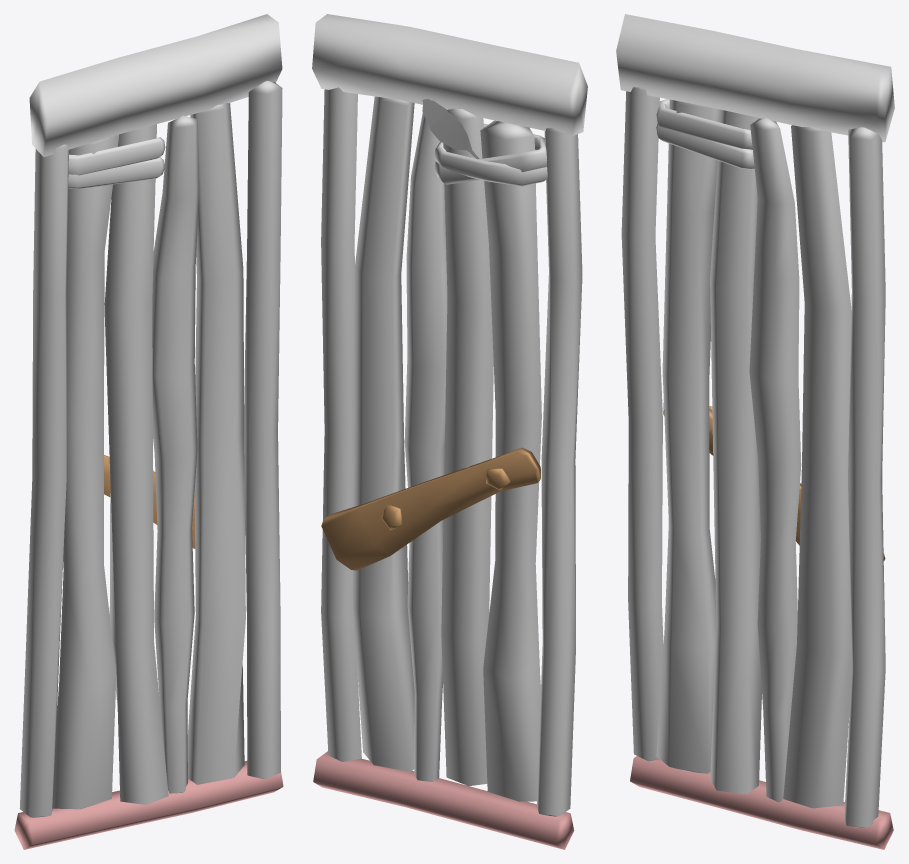
Rendered from PBW_W1_ArchwaySupportLarge.glb.
3 renders of one model, left to right at view 1: azimuth 30°, elevation 25°; view 2: azimuth 150°, elevation 25°; view 3: azimuth 330°, elevation 25°, orthographic.
Visible parts, largest first — view 1: PBW_W1_ArchwaySupportLarge; view 2: PBW_W1_ArchwaySupportLarge; view 3: PBW_W1_ArchwaySupportLarge.
Boxes of the visible parts, left/top/right/bottom form: PBW_W1_ArchwaySupportLarge: left=14, top=14, right=283, bottom=849; PBW_W1_ArchwaySupportLarge: left=312, top=14, right=587, bottom=849; PBW_W1_ArchwaySupportLarge: left=616, top=14, right=894, bottom=849.
Bounding box in the file's own units: 1.28 × 3.88 × 0.3749.
